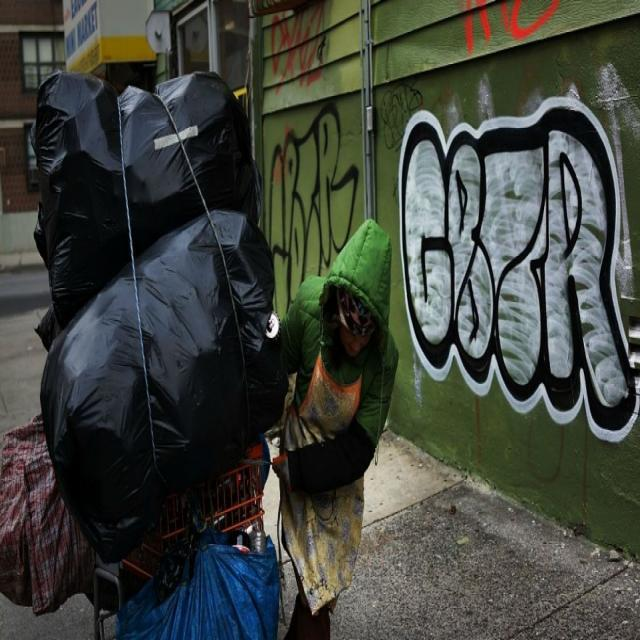garbage: (7, 32, 278, 640)
